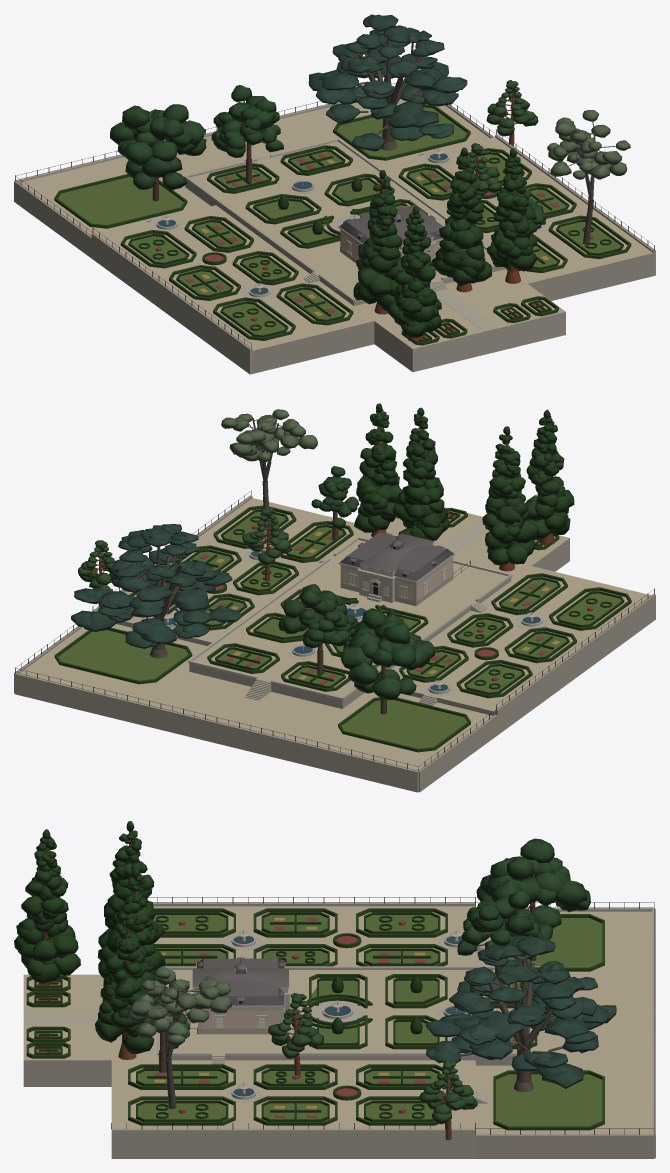
The picture shows the model from 3 angles, top to bottom: view 1: azimuth 30°, elevation 25°; view 2: azimuth 150°, elevation 25°; view 3: azimuth 270°, elevation 25°; orthographic projection. The views are drawn at different scales.
Parts seen in each view (by area): view 1: casita_del_infante; view 2: casita_del_infante; view 3: casita_del_infante.
Boxes of the visible parts, x1,y1,x2,y2 form: casita_del_infante: (14, 14, 655, 374); casita_del_infante: (14, 403, 655, 792); casita_del_infante: (14, 821, 655, 1158).
Bounding box in the file's own units: 97.5 × 35.46 × 109.
